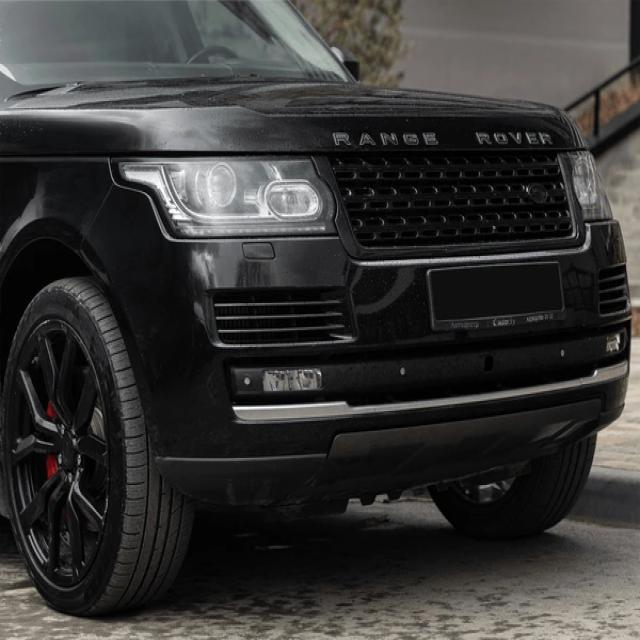rangerover: (329, 125, 565, 152)
